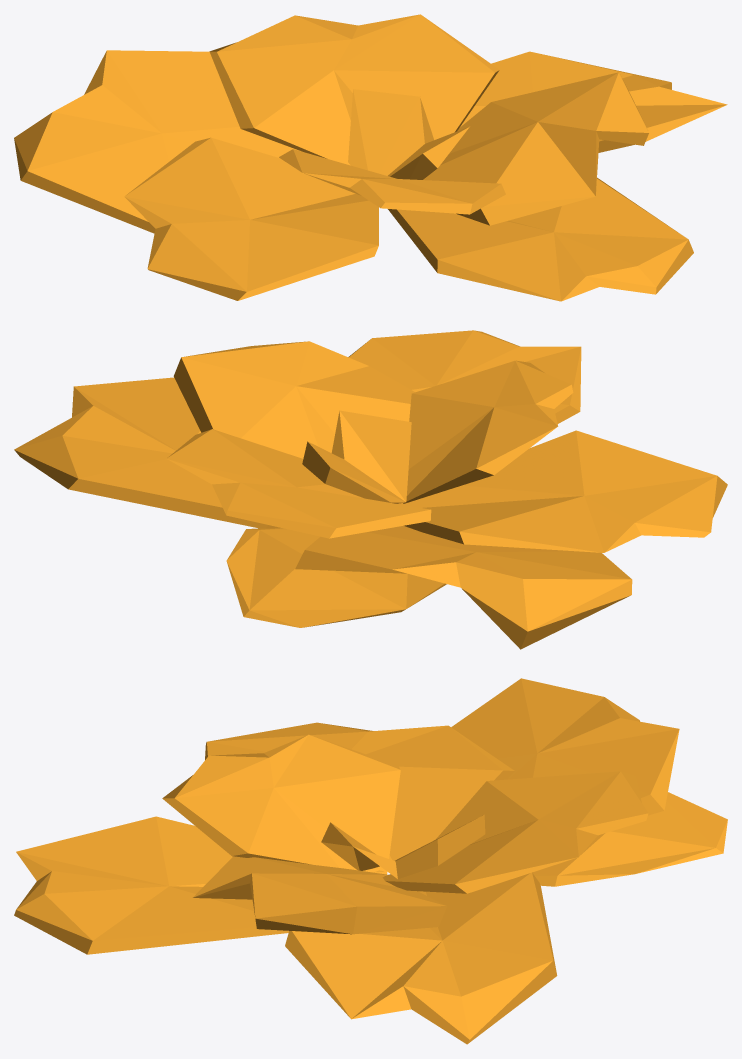
Rendered from SM_Salad_Dead_A.fbx.
3 views of the same model, one above another, from view 1: azimuth 30°, elevation 25°; view 2: azimuth 150°, elevation 25°; view 3: azimuth 270°, elevation 25° (orthographic). The views are drawn at different scales.
Visible parts, largest first — view 1: salad-dead-a; view 2: salad-dead-a; view 3: salad-dead-a.
Boxes of the visible parts, left/top/right/bottom form: salad-dead-a: left=14, top=14, right=727, bottom=301; salad-dead-a: left=14, top=330, right=727, bottom=649; salad-dead-a: left=14, top=678, right=727, bottom=1044.
Bounding box in the file's own units: 0.4798 × 0.0641 × 0.4567.
